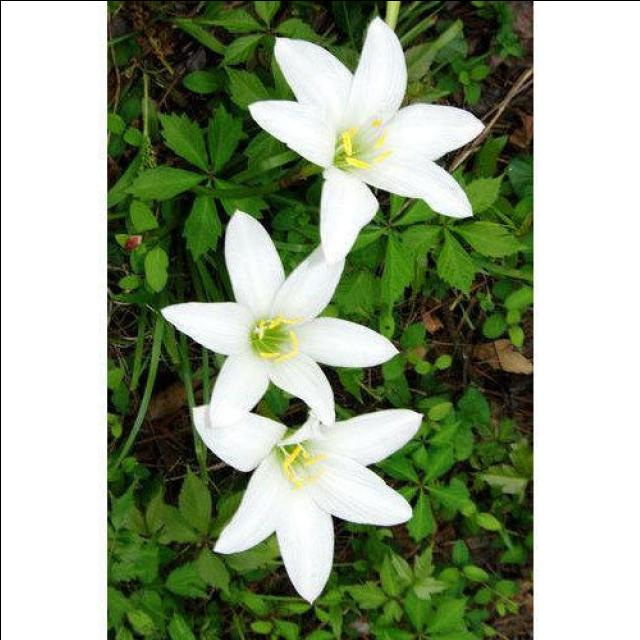lily: (174, 382, 440, 600)
